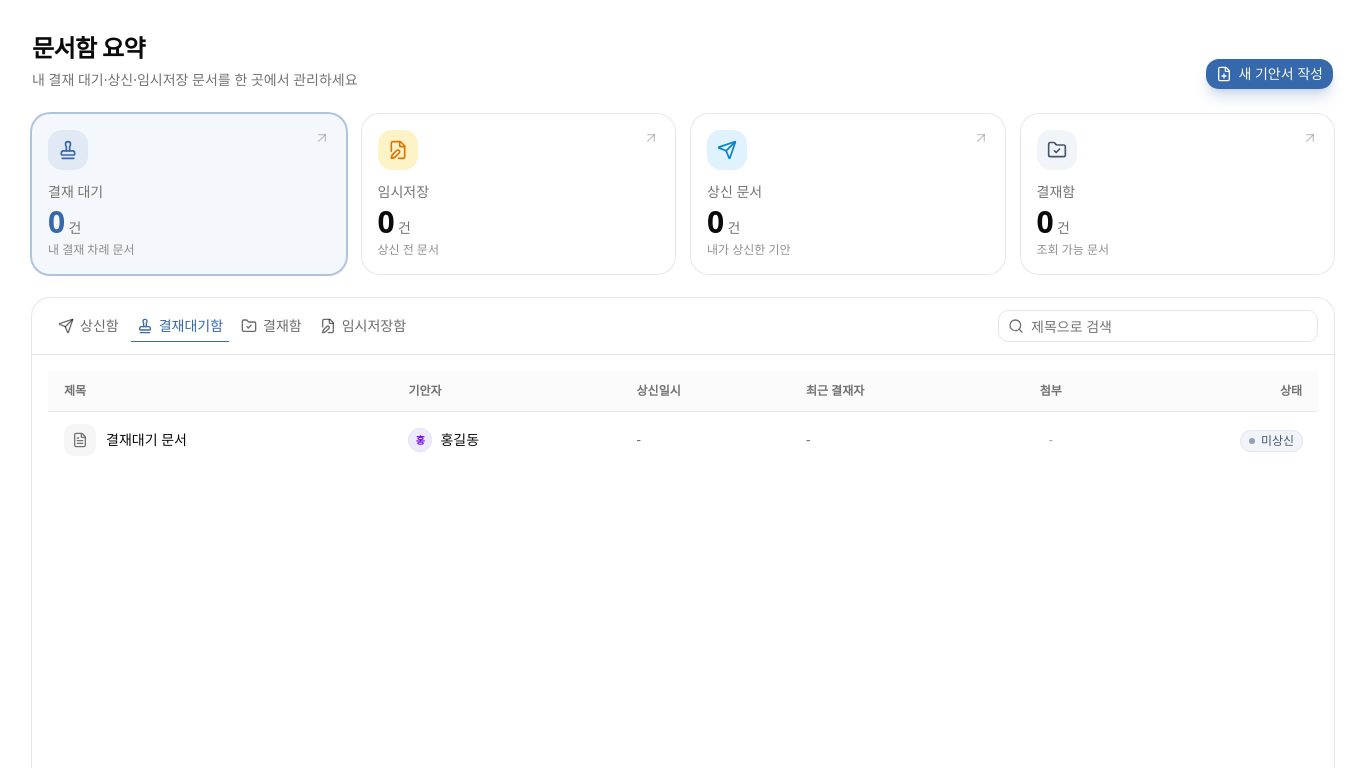
Test: DocumentBoxHomePage (F715) - 탭/카드/헤더 네비게이션 › 탭 클릭 시 해당 탭 목록으로 전환된다
This screenshot has width=1366, height=768.
expect the text "결재대기 문서" is shown: met, box [106, 430, 187, 450]
Click the tab "상신함": [88, 326] box [51, 314, 126, 338]
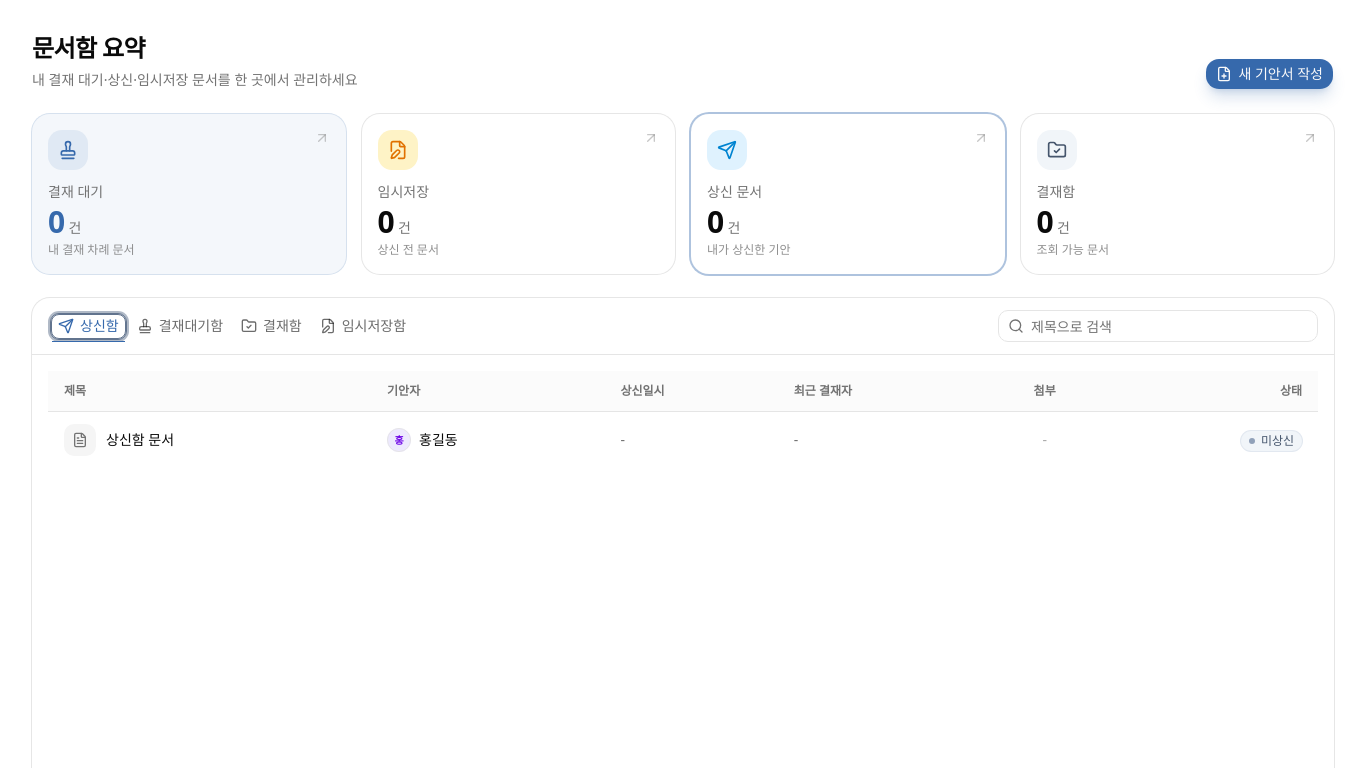
expect the text "상신함 문서" is shown: met, box [106, 430, 174, 450]
expect the button "결재대기 문서" is gone: met
